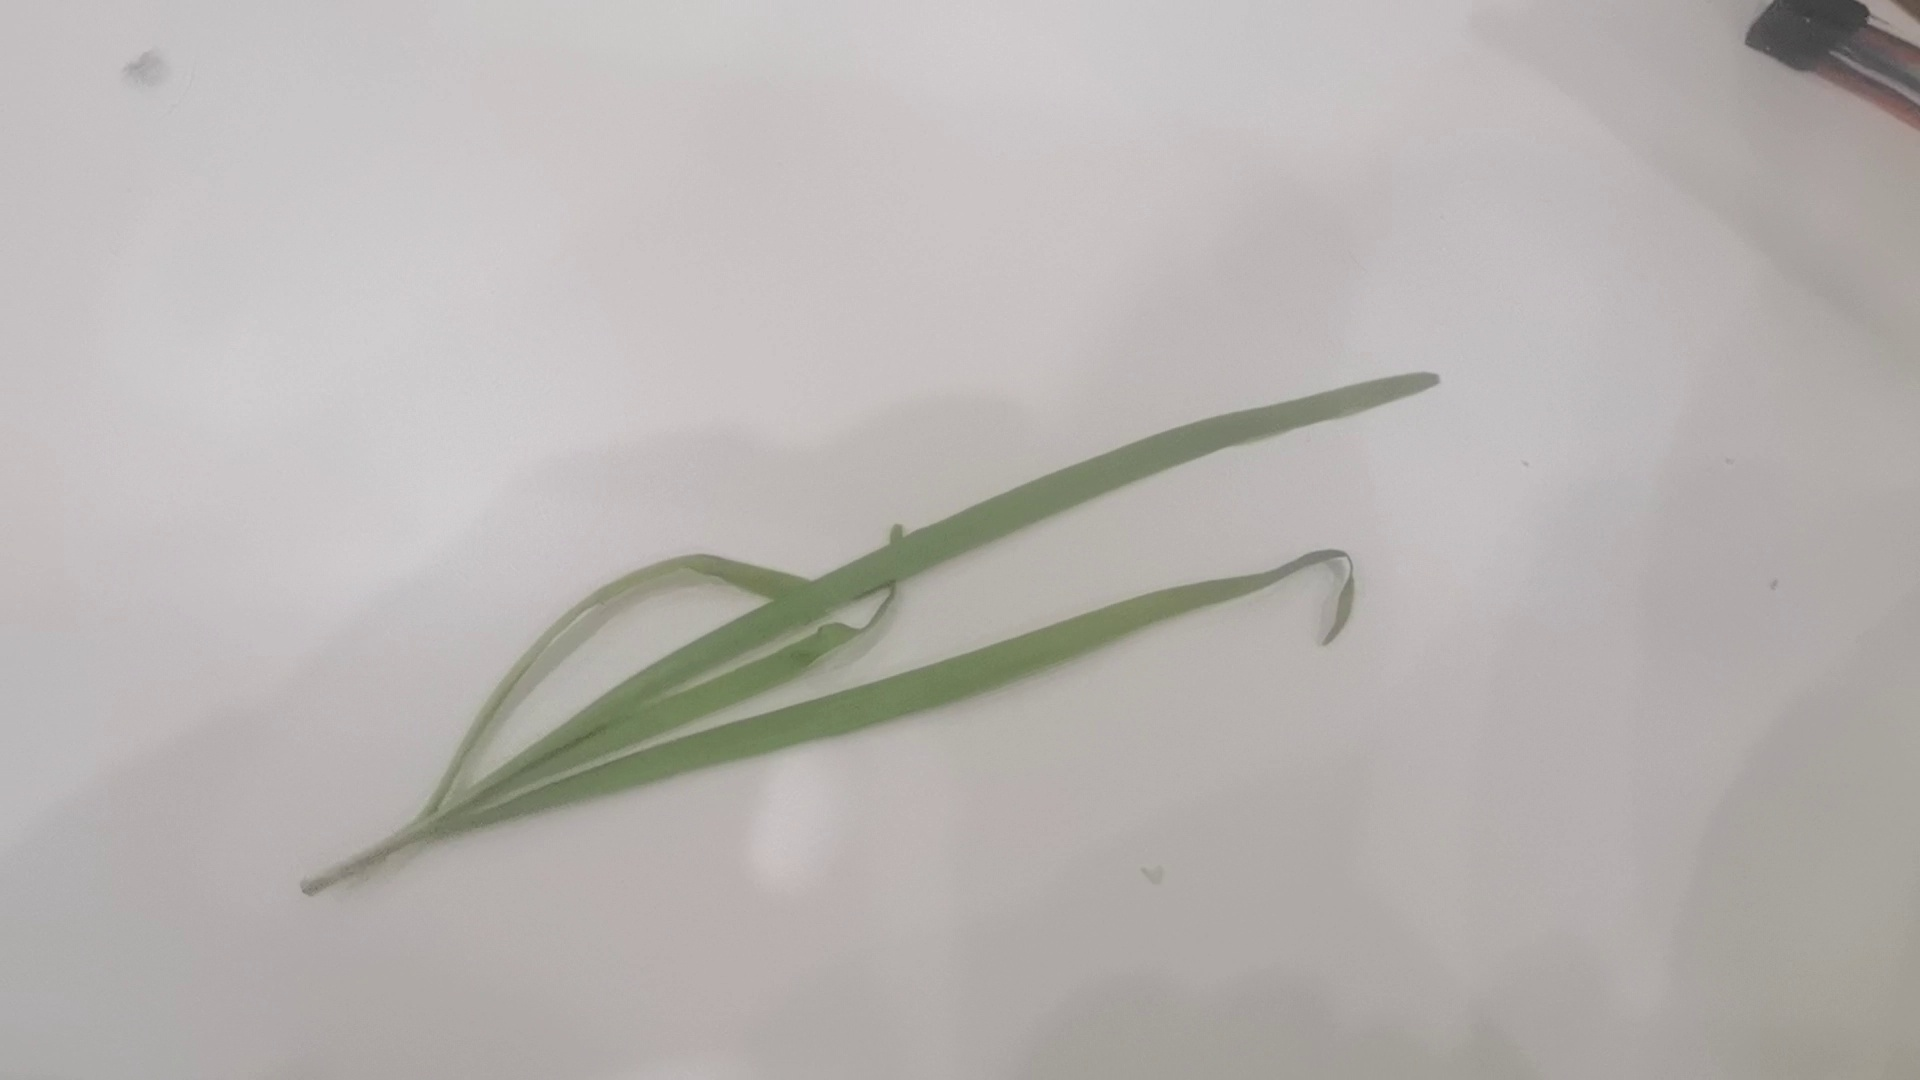chives: (284, 363, 1458, 915)
